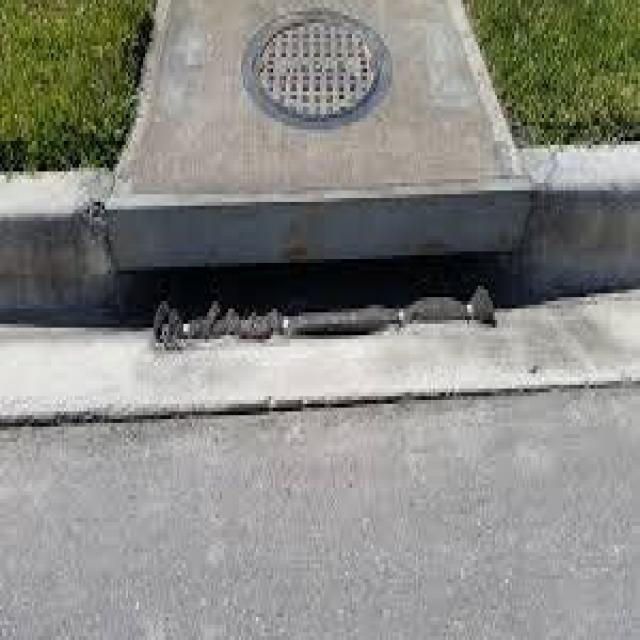curb: (13, 167, 640, 324)
